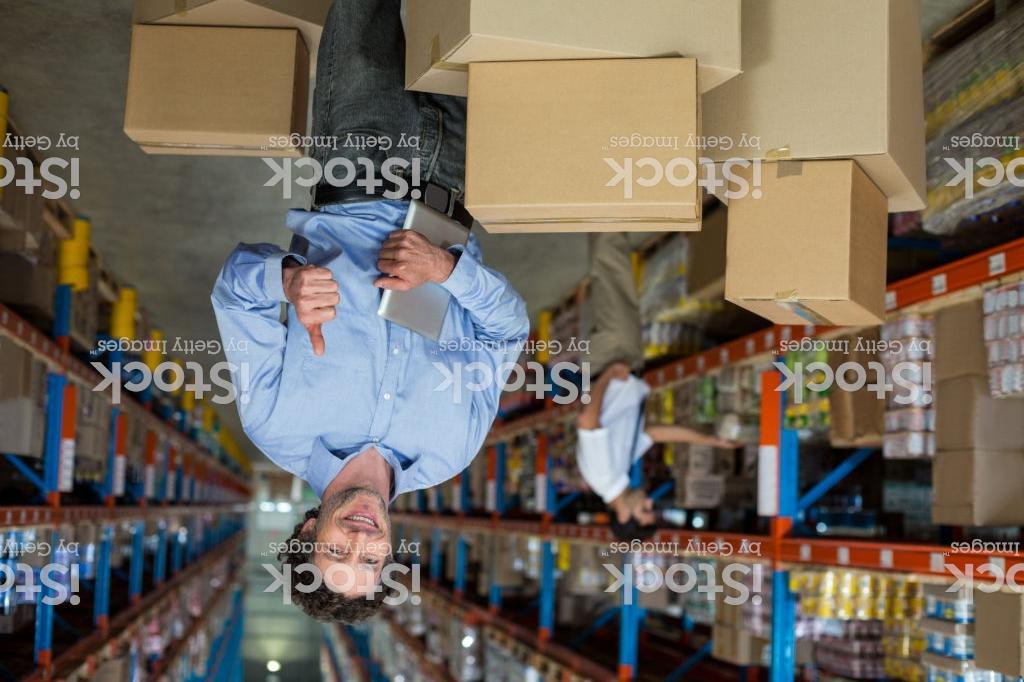thumbsdown: (292, 259, 344, 357)
